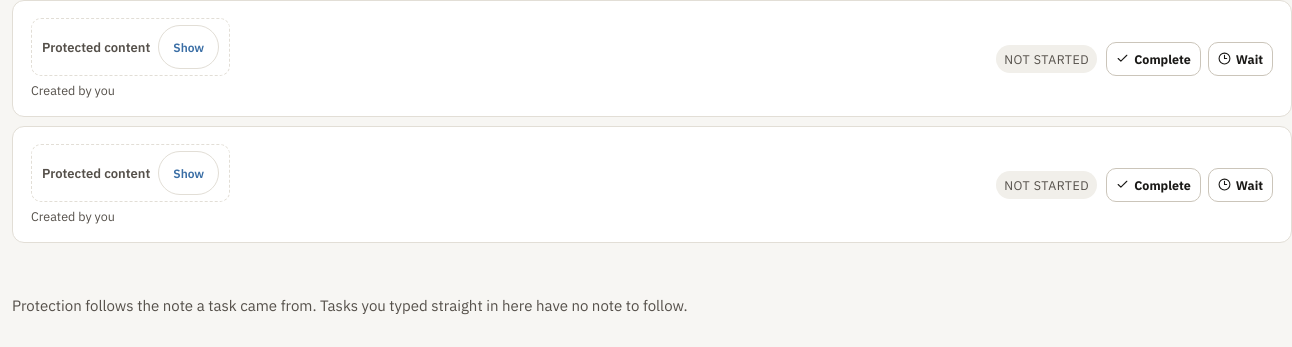
TaskList: withheld content (OD-2L-1 option B) › reveals one masked row without revealing another
What coordinates should you click on to do the following:
click the 1st button "Show"
I would click on:
 (189, 47)
Its box is x1=158 y1=25 x2=219 y2=69.
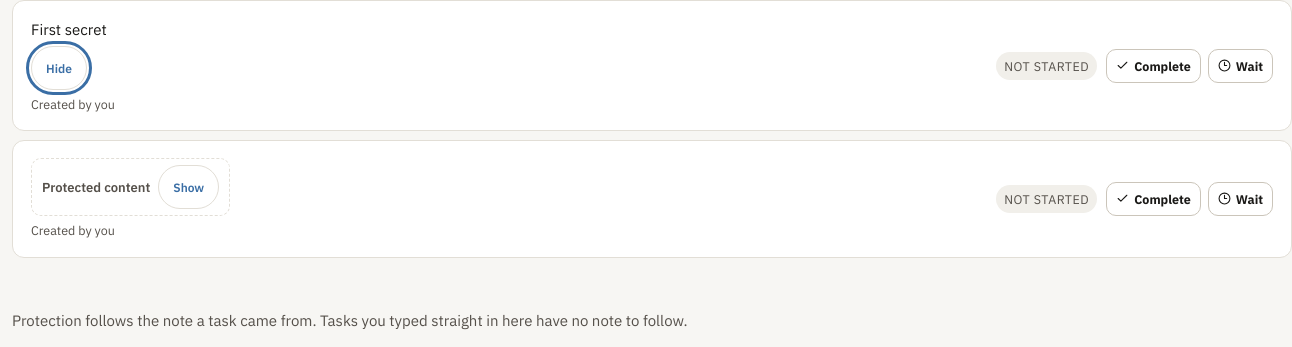
Expected: the text "First secret" is shown, x1=31 y1=20 x2=107 y2=39
